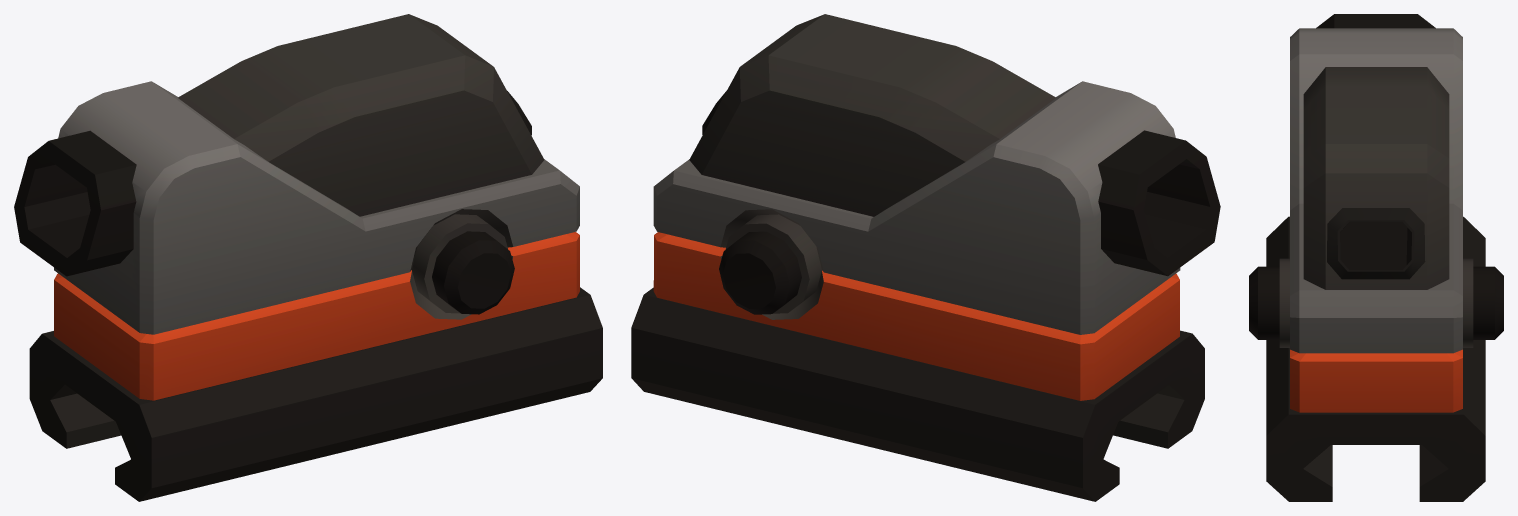
File: Sight_01.fbx
3 renders of one model, left to right at view 1: azimuth 30°, elevation 25°; view 2: azimuth 150°, elevation 25°; view 3: azimuth 270°, elevation 25°, orthographic. The views are drawn at different scales.
Parts seen in each view (by area): view 1: Sight_01; view 2: Sight_01; view 3: Sight_01.
Boxes of the visible parts, bbox=[...] form: Sight_01: bbox=[14, 14, 602, 501]; Sight_01: bbox=[631, 14, 1220, 501]; Sight_01: bbox=[1249, 14, 1503, 501].
Size of the model in its own units: 9.24 by 6.14 by 4.54.
